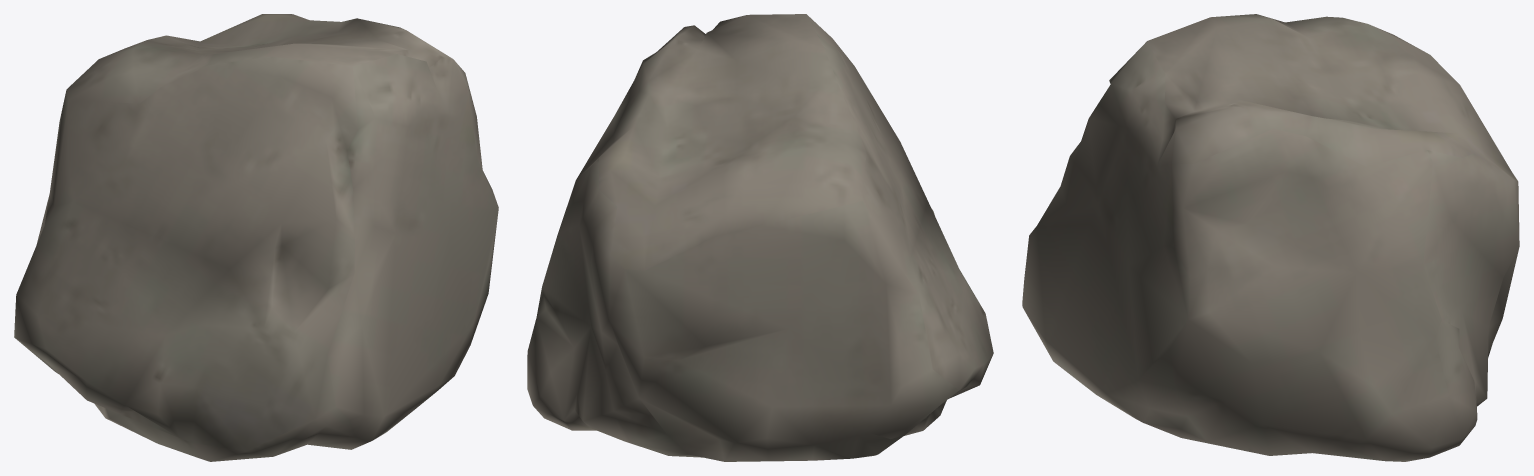
File: rock-grey.glb
3 views of the same model, side by side, from view 1: azimuth 30°, elevation 25°; view 2: azimuth 150°, elevation 25°; view 3: azimuth 270°, elevation 25° (orthographic). The views are drawn at different scales.
Visible parts, largest first — view 1: moon_rock_02_LOD0; view 2: moon_rock_02_LOD0; view 3: moon_rock_02_LOD0.
Part boxes in pixels (x1,y1,x2,y2): moon_rock_02_LOD0: [14, 14, 498, 461]; moon_rock_02_LOD0: [527, 14, 993, 461]; moon_rock_02_LOD0: [1022, 14, 1519, 461].
Bounding box in the file's own units: 0.2452 × 0.2019 × 0.2513.
1 material, 1 textured.
